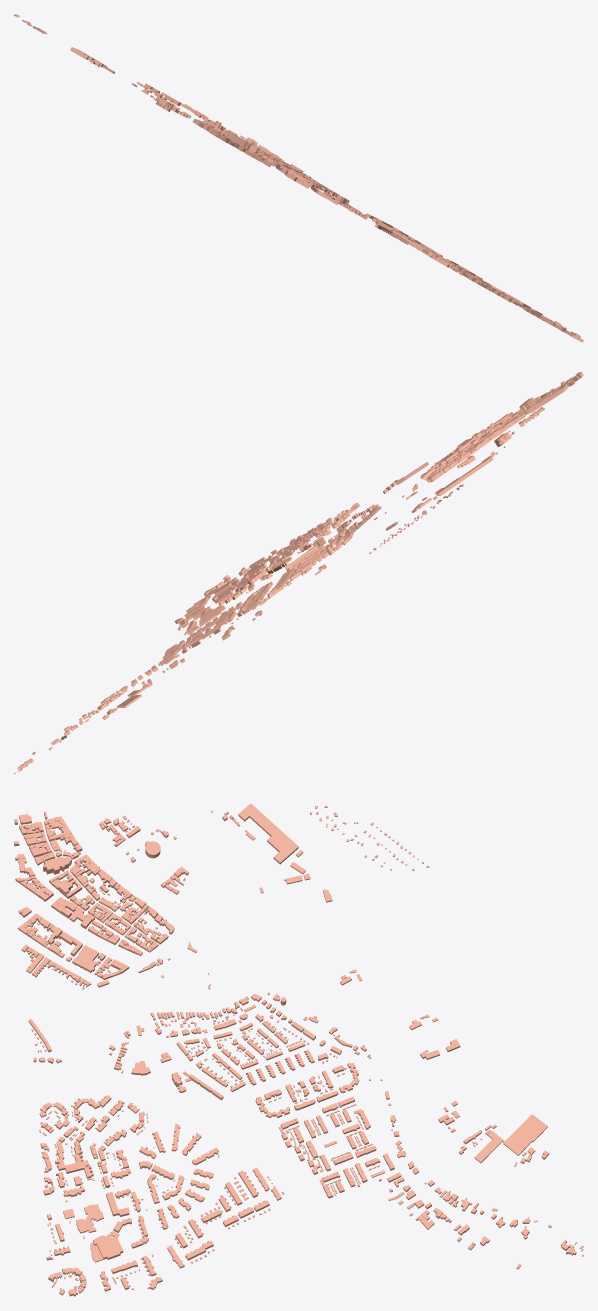
3 renders of one model, top to bottom at view 1: azimuth 30°, elevation 25°; view 2: azimuth 150°, elevation 25°; view 3: azimuth 270°, elevation 25°, orthographic. The views are drawn at different scales.
Bounding box in the file's own units: 1018 × 754 × 1277.
